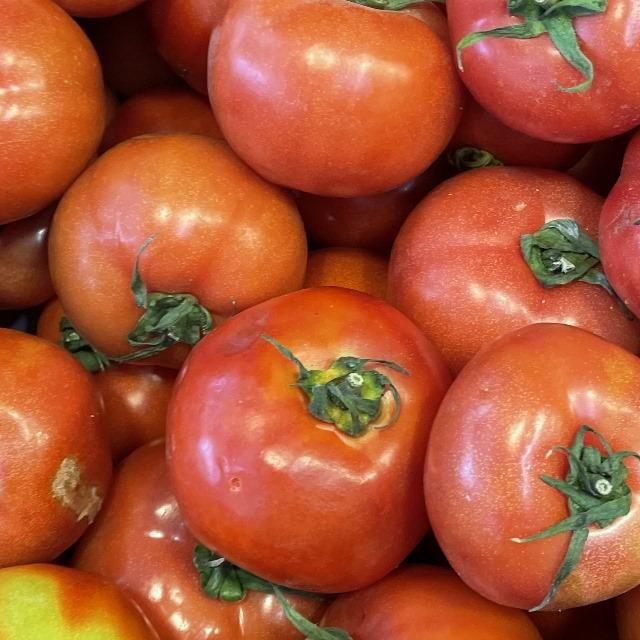tomato: (128, 248, 475, 585), (422, 307, 640, 625), (200, 0, 492, 200), (0, 300, 125, 577), (0, 0, 132, 230), (410, 0, 640, 127), (570, 32, 640, 342)
